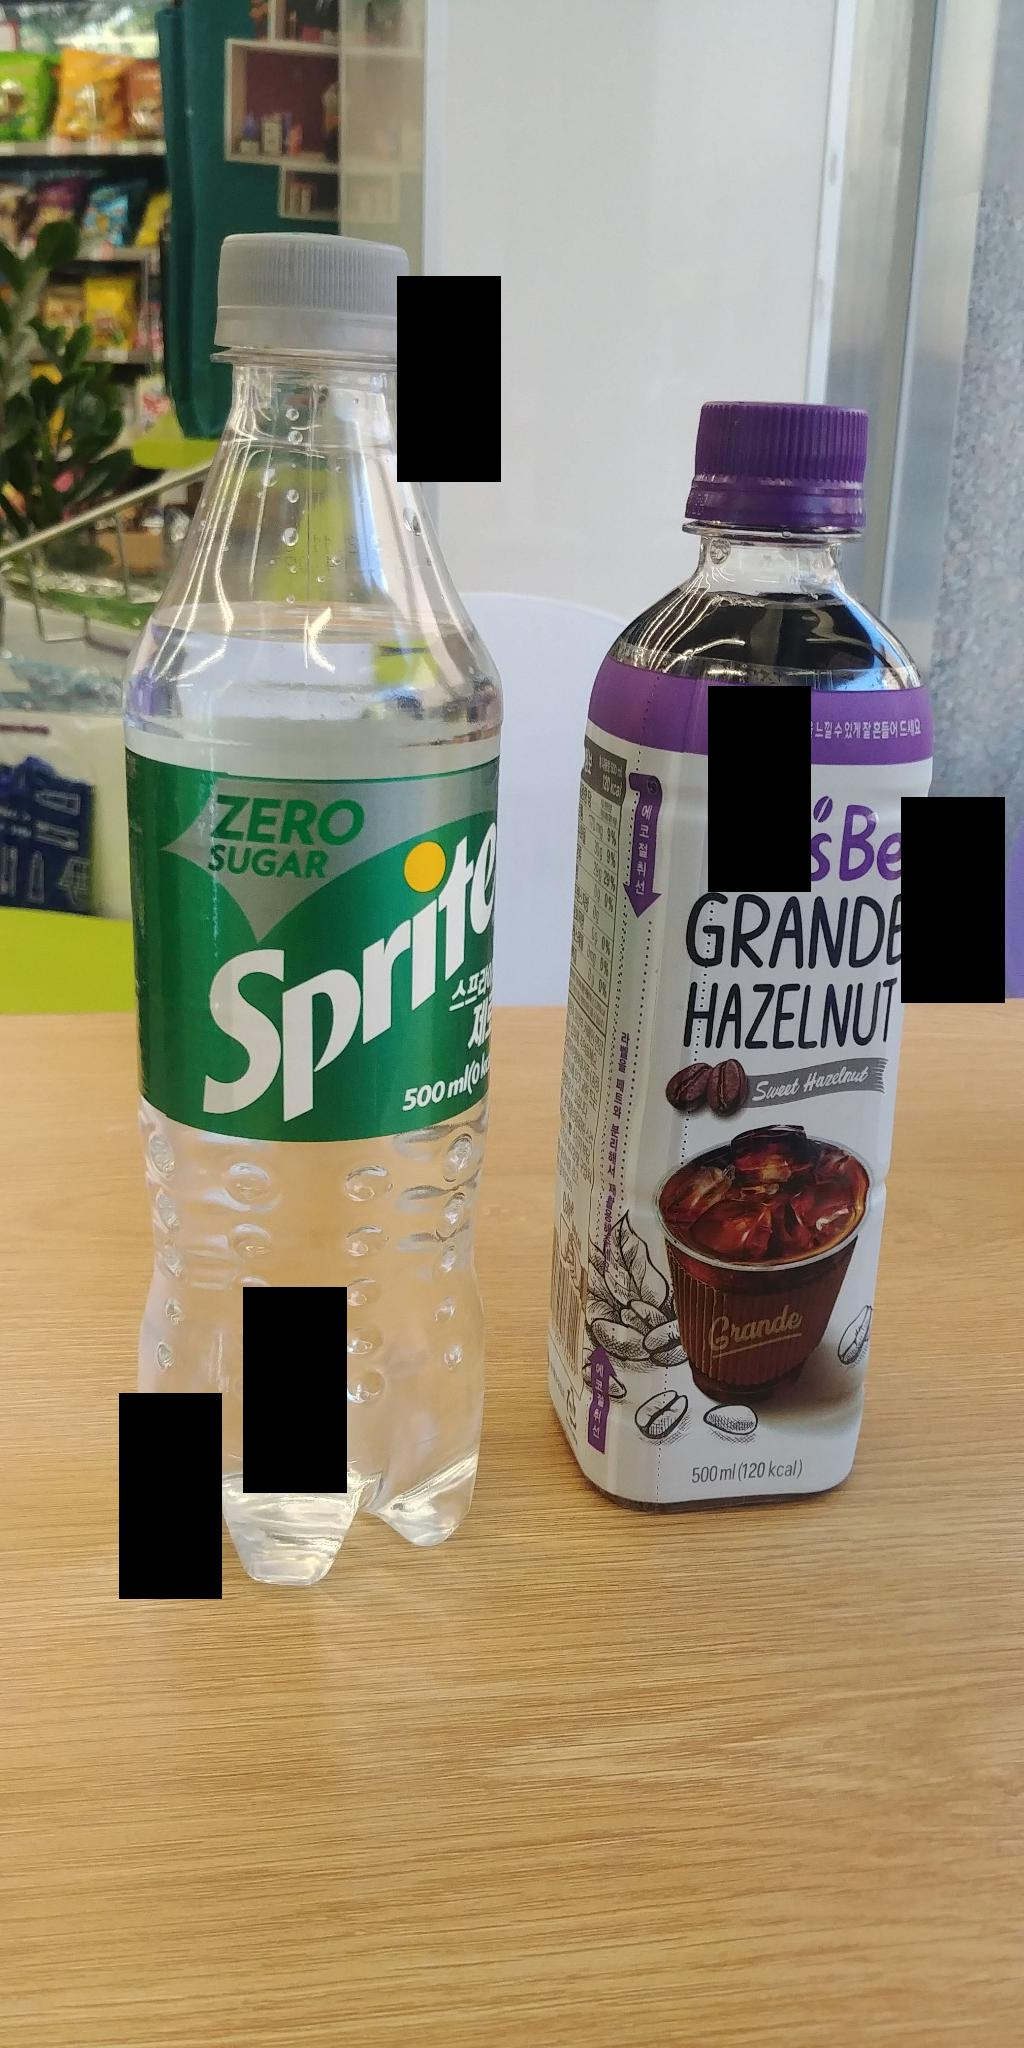letsbe_grande_hazelnut: (568, 384, 934, 1527)
sprite_zero: (101, 221, 490, 1605)
